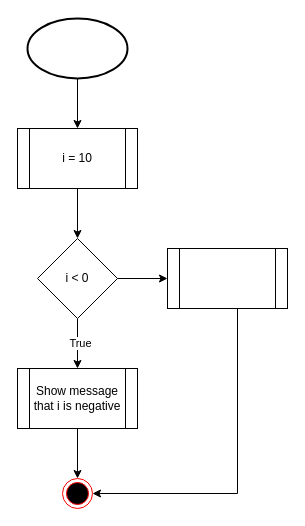
Image size: 305x526. Some labels were removed from this diagram. Each missing label, with the box of its shape:
Show message that i is positive: (166, 248, 288, 308)
Start: (26, 17, 128, 79)
